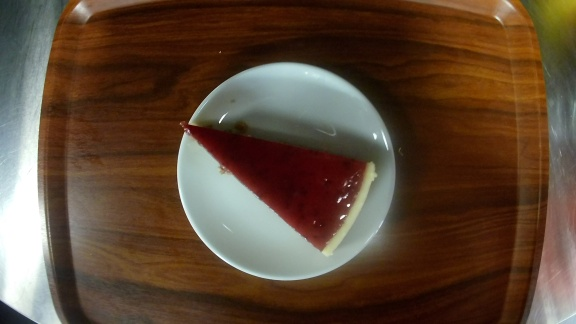fistiklipasta: (177, 63, 397, 282)
